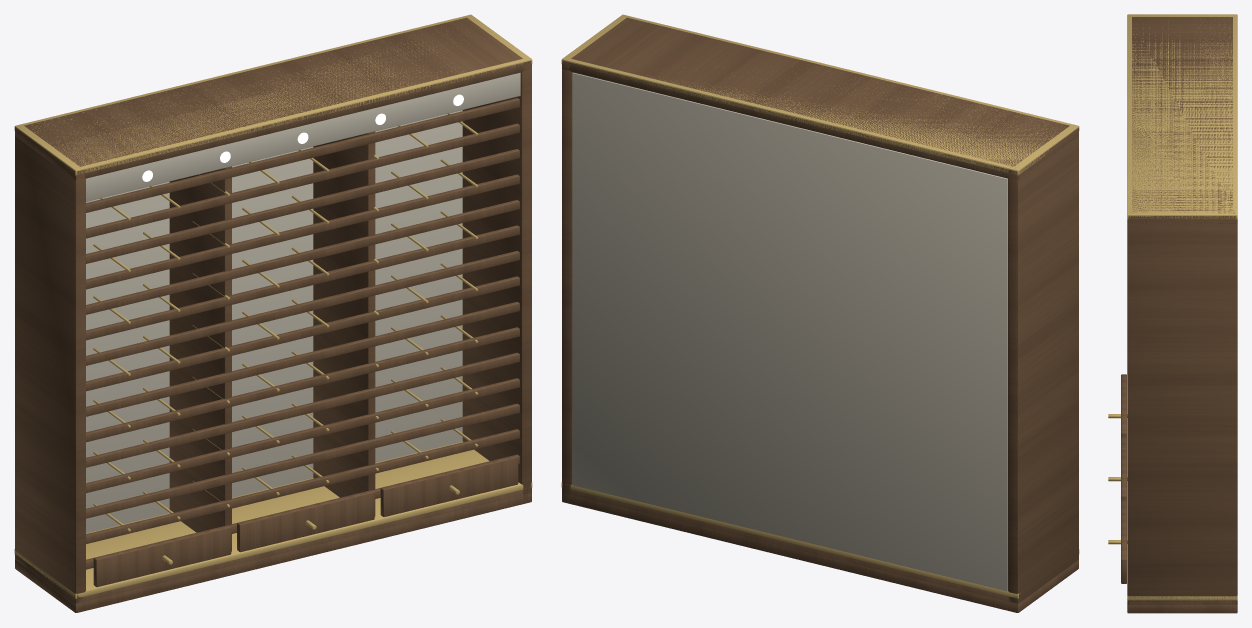
The model's file is pf_display_accessory_rack_t5.glb.
3 renders of one model, left to right at view 1: azimuth 30°, elevation 25°; view 2: azimuth 150°, elevation 25°; view 3: azimuth 270°, elevation 25°, orthographic. The views are drawn at different scales.
Parts seen in each view (by area): view 1: Case_Back, Case_Left, Crown_Main, Case_Right, Millwork_Divider_01, Millwork_Divider_02, Crown_Trim, Header_Back, Plinth_Trim, Case_Top, Case_Base, Accessory_Slat_13 (+17 smaller); view 2: Case_Back, Case_Left, Crown_Main, Crown_Trim, Plinth_Base, Case_Right, Case_Top, Case_Base, Plinth_Trim; view 3: Case_Right, Crown_Trim, Crown_Main, Plinth_Base, Case_Base, Plinth_Trim, Drawer_Front_03, Drawer_Front_01, Drawer_Front_02, Case_Top.
Boxes of the visible parts, bbox=[...] form: Case_Back: bbox=[86, 110, 462, 533]; Case_Left: bbox=[15, 128, 85, 612]; Crown_Main: bbox=[24, 17, 522, 166]; Case_Right: bbox=[462, 61, 531, 503]; Millwork_Divider_01: bbox=[169, 166, 231, 551]; Millwork_Divider_02: bbox=[313, 131, 375, 516]; Crown_Trim: bbox=[14, 14, 532, 175]; Header_Back: bbox=[86, 72, 520, 201]; Plinth_Trim: bbox=[14, 441, 532, 598]; Case_Top: bbox=[15, 63, 528, 179]; Case_Base: bbox=[15, 493, 531, 612]; Accessory_Slat_13: bbox=[86, 149, 519, 263]; Case_Back: bbox=[572, 72, 1007, 591]; Case_Left: bbox=[1008, 128, 1078, 610]; Crown_Main: bbox=[571, 17, 1069, 166]; Crown_Trim: bbox=[561, 14, 1079, 175]; Plinth_Base: bbox=[570, 489, 1020, 611]; Case_Right: bbox=[562, 61, 572, 503]; Case_Top: bbox=[562, 61, 1078, 179]; Case_Base: bbox=[562, 494, 1078, 612]; Plinth_Trim: bbox=[561, 482, 1079, 598]; Case_Right: bbox=[1127, 211, 1237, 604]; Crown_Trim: bbox=[1127, 14, 1237, 219]; Crown_Main: bbox=[1132, 17, 1232, 211]; Plinth_Base: bbox=[1129, 600, 1235, 611]; Case_Base: bbox=[1127, 605, 1237, 613]; Plinth_Trim: bbox=[1127, 595, 1237, 600]; Drawer_Front_03: bbox=[1121, 500, 1126, 583]; Drawer_Front_01: bbox=[1121, 374, 1126, 437]; Drawer_Front_02: bbox=[1121, 437, 1126, 500]; Case_Top: bbox=[1127, 190, 1237, 223].
Bounding box in the file's own units: 2.75 × 2.55 × 0.75.
Materials: 5 (1 with a texture image).
